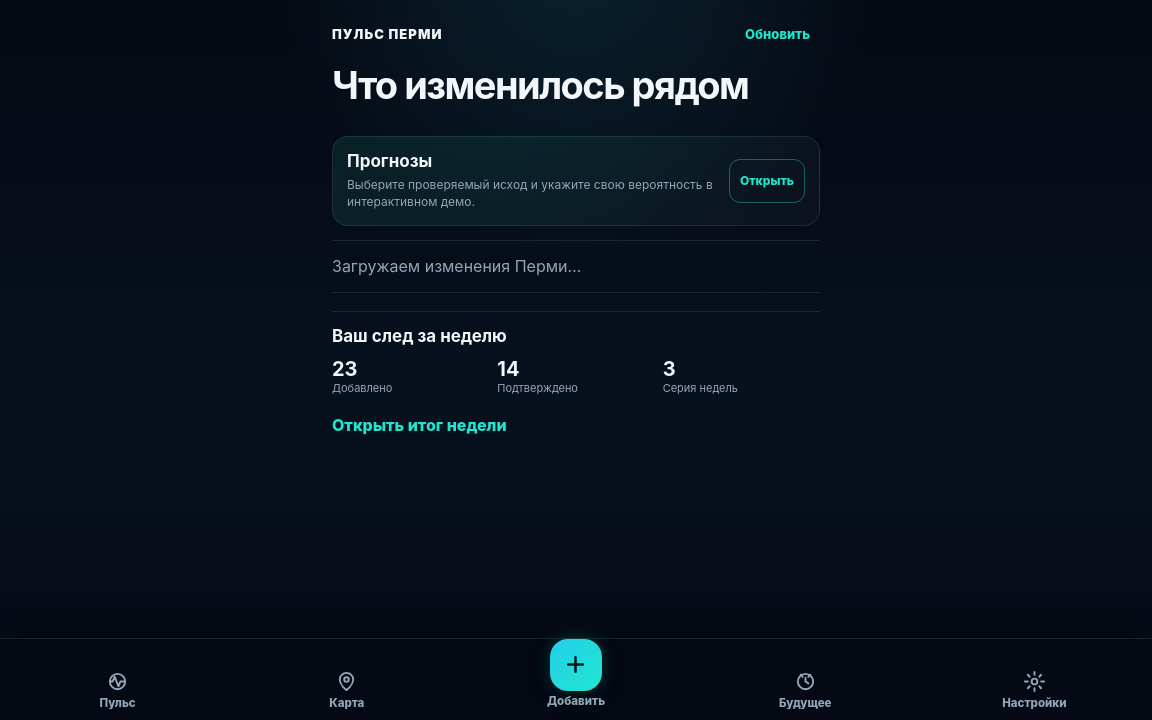
MobilePulsePage › does not let a stale first city request replace a newer successful request
Click the button "Обновить" at (778, 34), box [735,12,820,56]
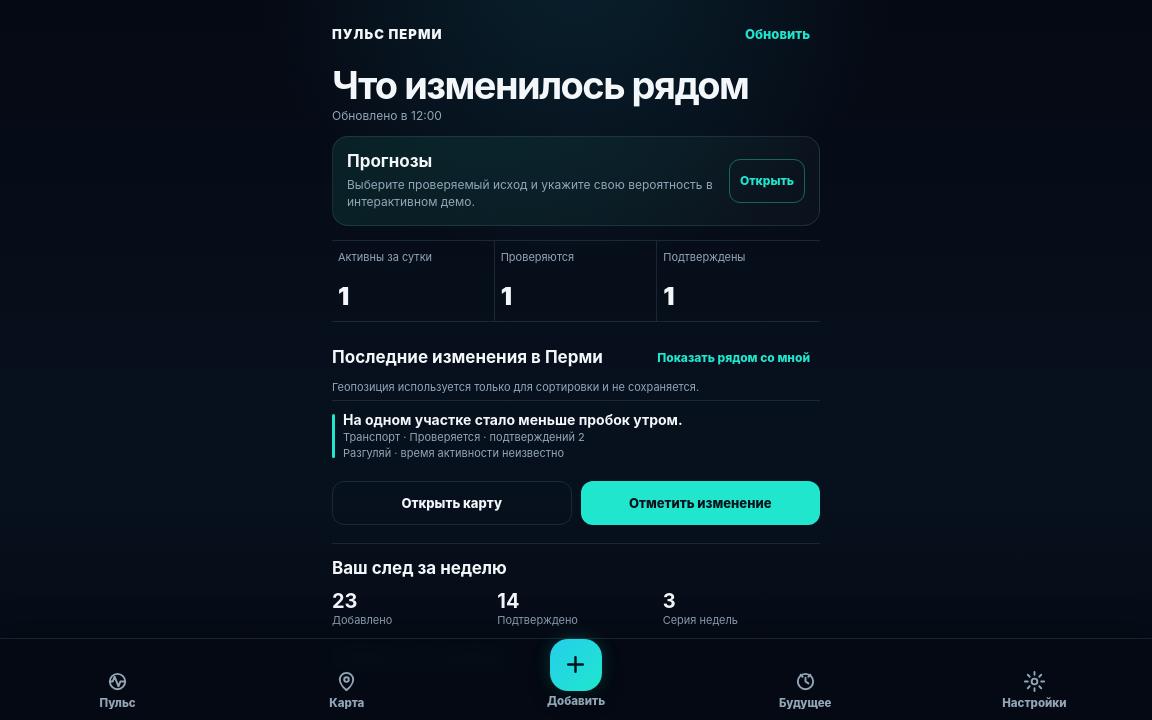
expect the text "На одном участке стало меньше пробок утром." is shown: met, box [343,411,683,428]
